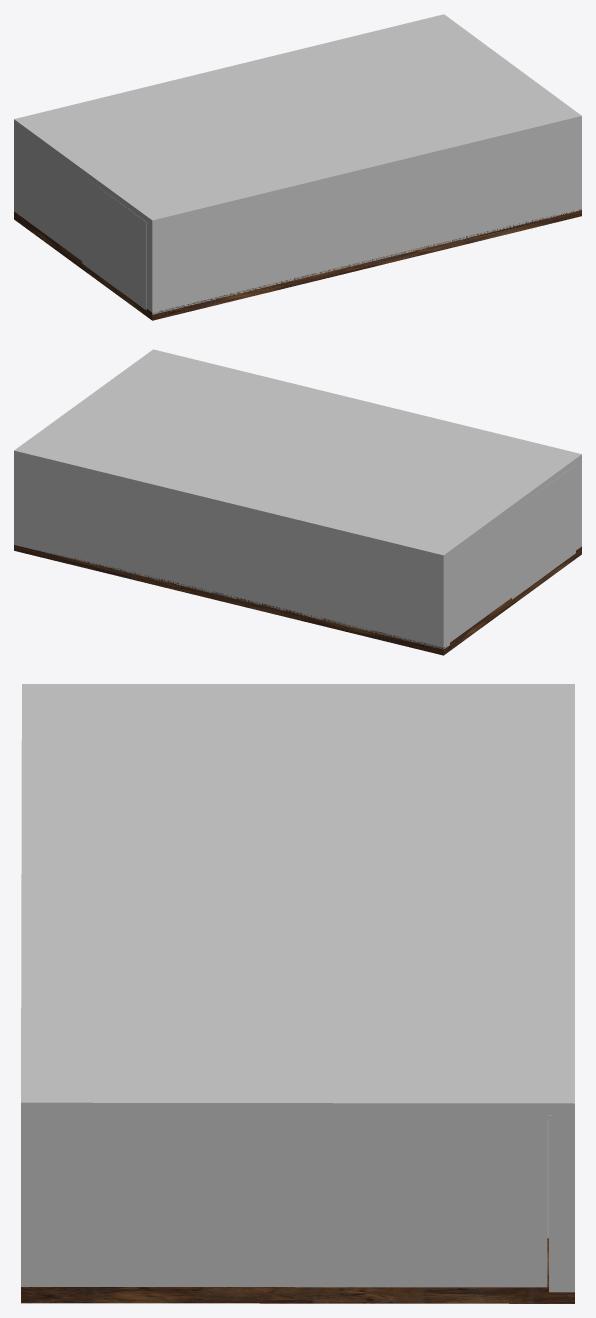
Rendered from SalaBoss.fbx.
3 views of the same model, one above another, from view 1: azimuth 30°, elevation 25°; view 2: azimuth 150°, elevation 25°; view 3: azimuth 270°, elevation 25° (orthographic). The views are drawn at different scales.
Visible parts, largest first — view 1: pCube57, pCube53, pCube52, pCube56, pCube54; view 2: pCube57, pCube54, pCube52, pCube56, pCube53; view 3: pCube57, pCube55, pCube56, pCube54, pCube53.
Part boxes in pixels (bbox=[...]): pCube57: bbox=[14, 14, 581, 227]; pCube53: bbox=[146, 122, 581, 314]; pCube52: bbox=[20, 132, 146, 309]; pCube56: bbox=[14, 209, 581, 320]; pCube54: bbox=[14, 127, 20, 215]; pCube57: bbox=[14, 349, 581, 563]; pCube54: bbox=[14, 458, 449, 649]; pCube52: bbox=[450, 465, 575, 642]; pCube56: bbox=[14, 545, 581, 655]; pCube53: bbox=[576, 462, 581, 550]; pCube57: bbox=[21, 684, 574, 1119]; pCube55: bbox=[47, 1119, 547, 1287]; pCube56: bbox=[21, 1238, 574, 1303]; pCube54: bbox=[549, 1115, 574, 1292]; pCube53: bbox=[21, 1119, 46, 1286].
Size of the model in its own units: 40.4 by 9 by 22.55.
